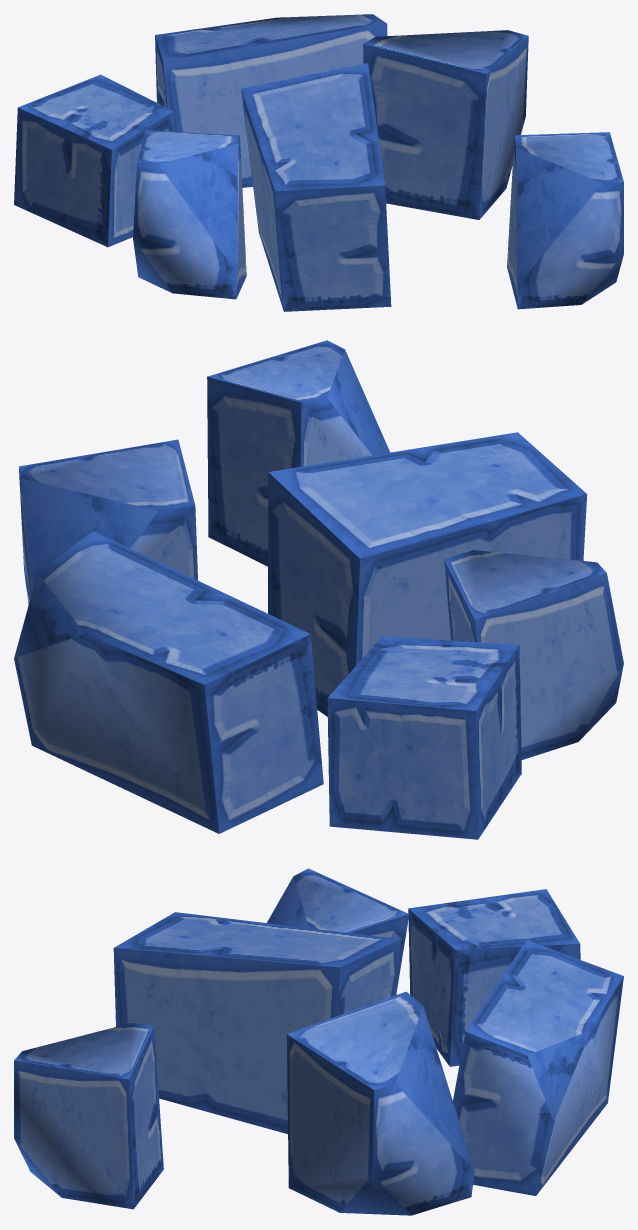
The model's file is Toon_Rubbish_02.fbx.
3 renders of one model, top to bottom at view 1: azimuth 30°, elevation 25°; view 2: azimuth 150°, elevation 25°; view 3: azimuth 270°, elevation 25°, orthographic. The views are drawn at different scales.
Parts seen in each view (by area): view 1: Toon_Rubbish_02; view 2: Toon_Rubbish_02; view 3: Toon_Rubbish_02.
Part boxes in pixels (x1,y1,x2,y2): Toon_Rubbish_02: (14,14,623,311); Toon_Rubbish_02: (14,340,623,839); Toon_Rubbish_02: (14,868,623,1215).
Size of the model in its own units: 4.66 by 1.76 by 5.23.
